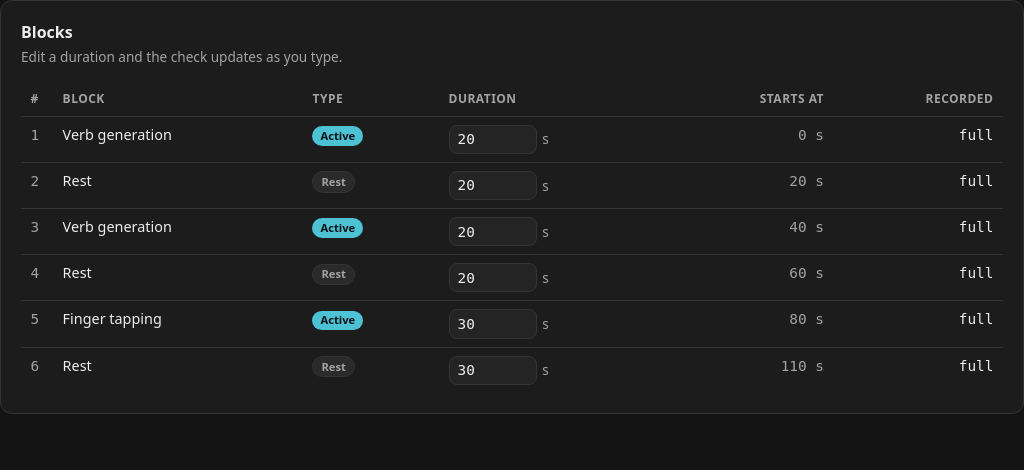
Test case: BlockTable › TC-CT-040 [REQ-3] [REQ-5]: invalid input keeps its raw text and is marked with a reason
Replace the text in the field with id "block-duration-1" with "abc" at point(492, 139), box [448,125,536,154]
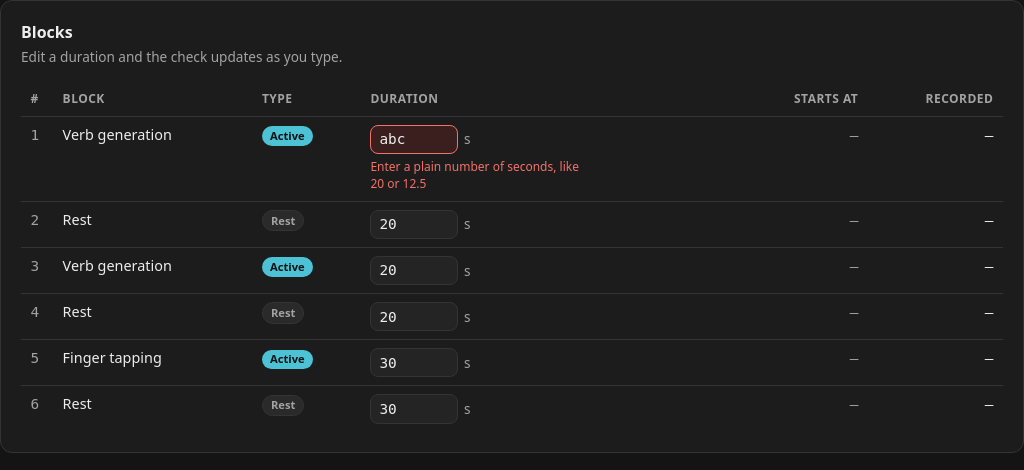
Now the text "Enter a plain number of seconds" is shown, box [370,158,579,192]
Clear the field with id "block-duration-1" at point(414, 139), box [370,125,458,154]
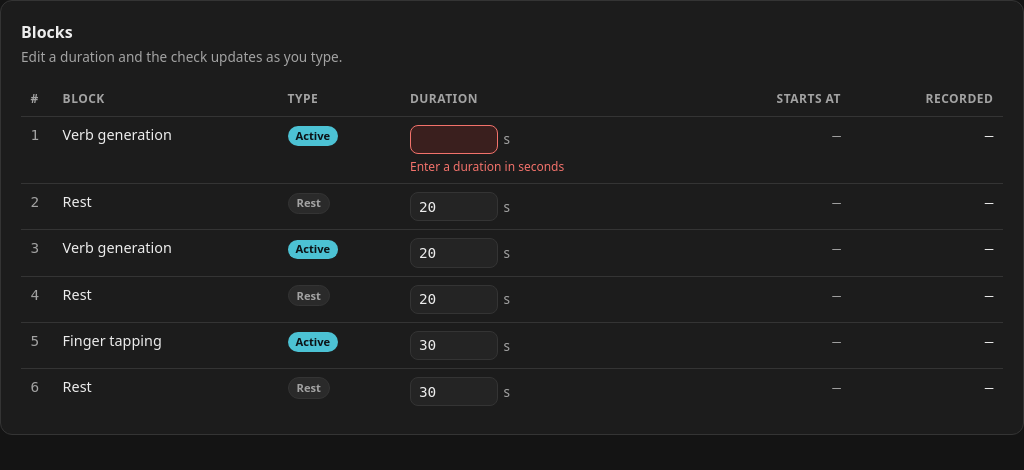
Now the text "Enter a duration in seconds" is shown, box [410,158,564,175]
